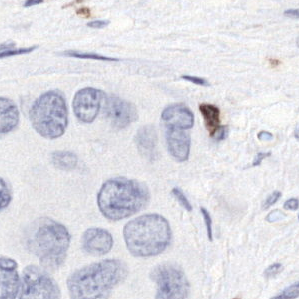Lymphocyte: (196, 100, 225, 135)
